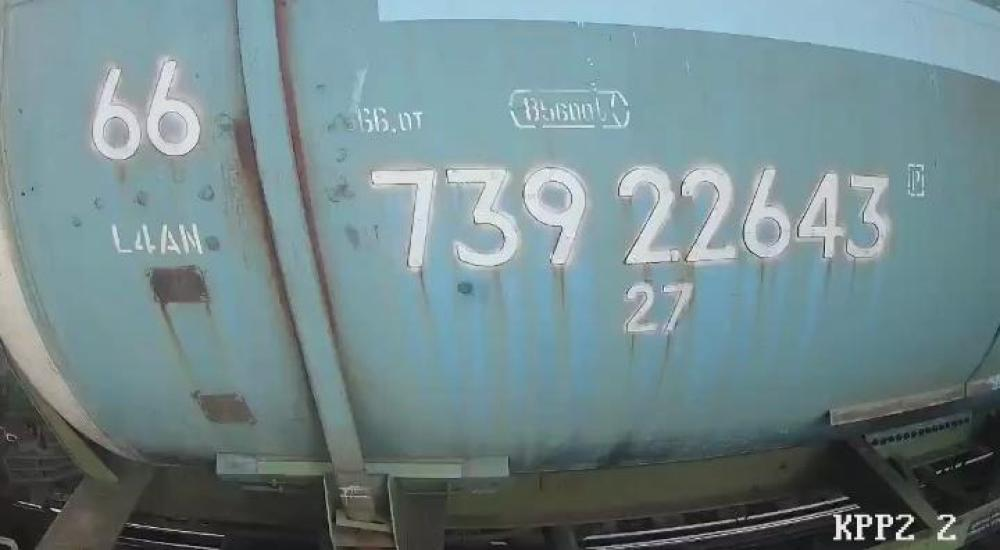Wagon-number: (367, 160, 898, 274)
